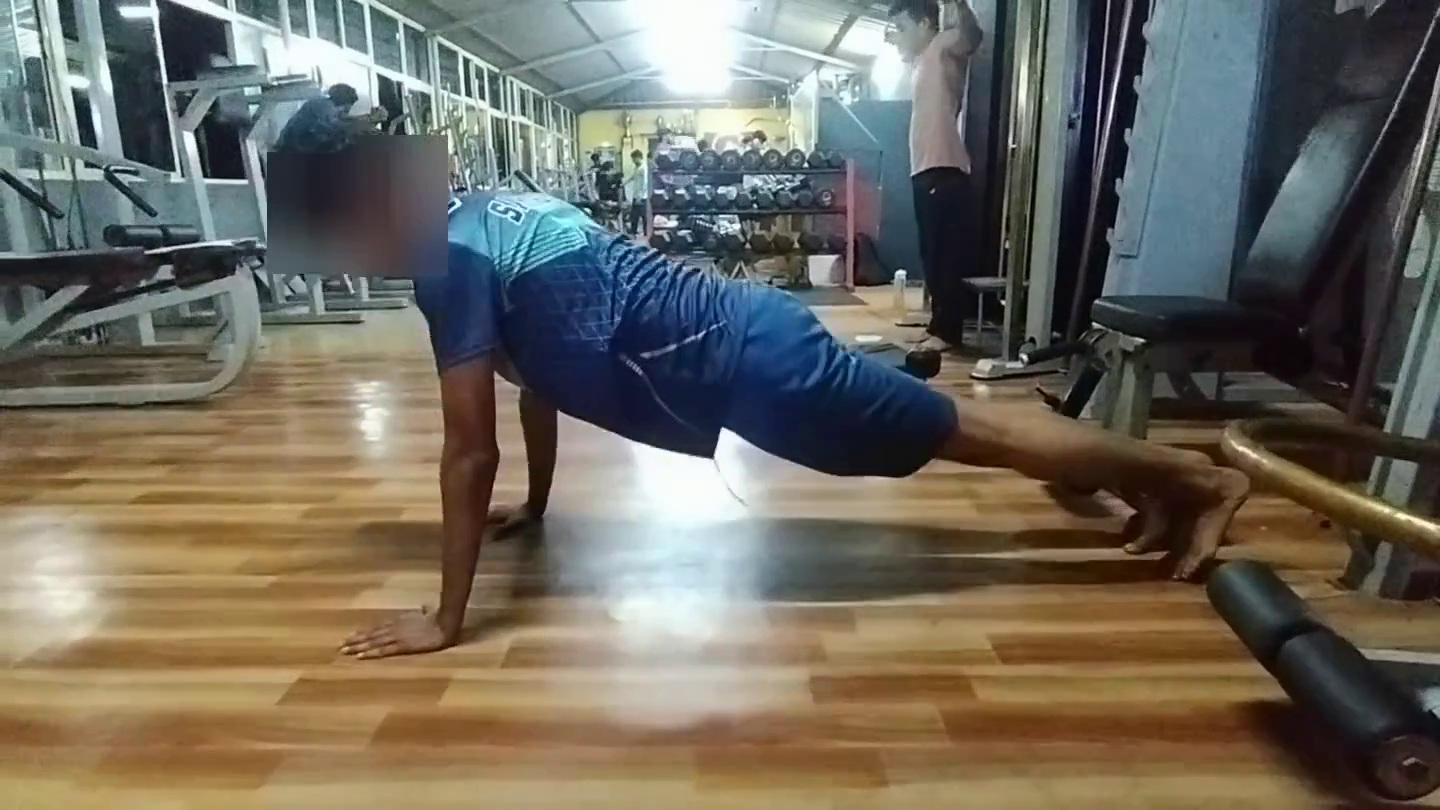push_up_correct: (256, 139, 1299, 723)
